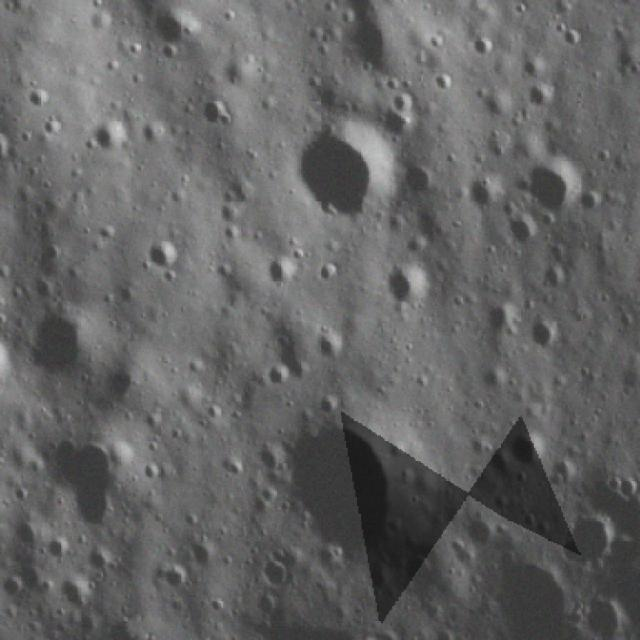crater: (272, 388, 413, 562), (298, 114, 400, 232), (25, 421, 141, 516), (480, 558, 588, 640), (14, 298, 98, 385), (518, 153, 587, 222), (563, 512, 623, 576), (490, 421, 552, 474), (387, 265, 433, 320), (136, 229, 178, 277), (91, 115, 132, 160), (258, 243, 294, 294), (461, 174, 507, 212), (530, 320, 568, 363), (403, 165, 439, 203), (315, 324, 348, 364), (478, 302, 512, 340)
